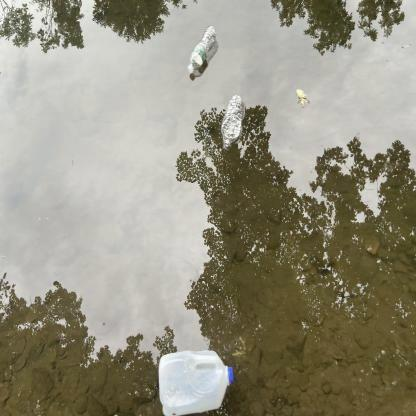Plastic: (151, 344, 239, 416), (184, 23, 223, 79), (213, 93, 249, 152)
